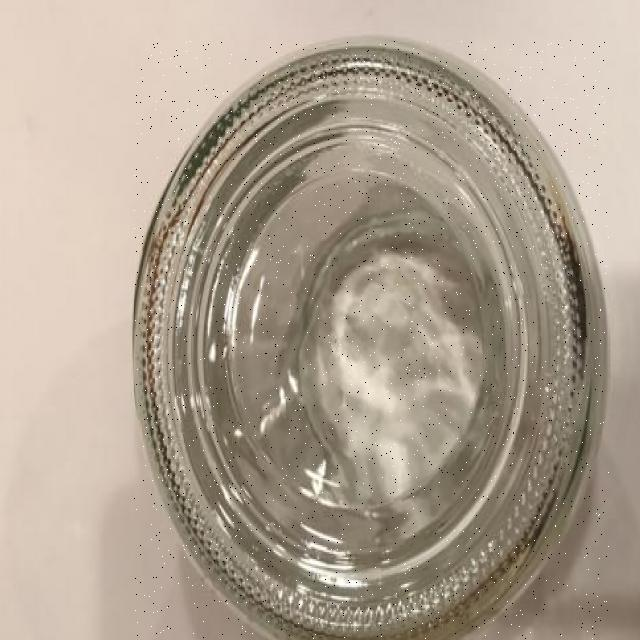glass: (135, 41, 609, 640)
